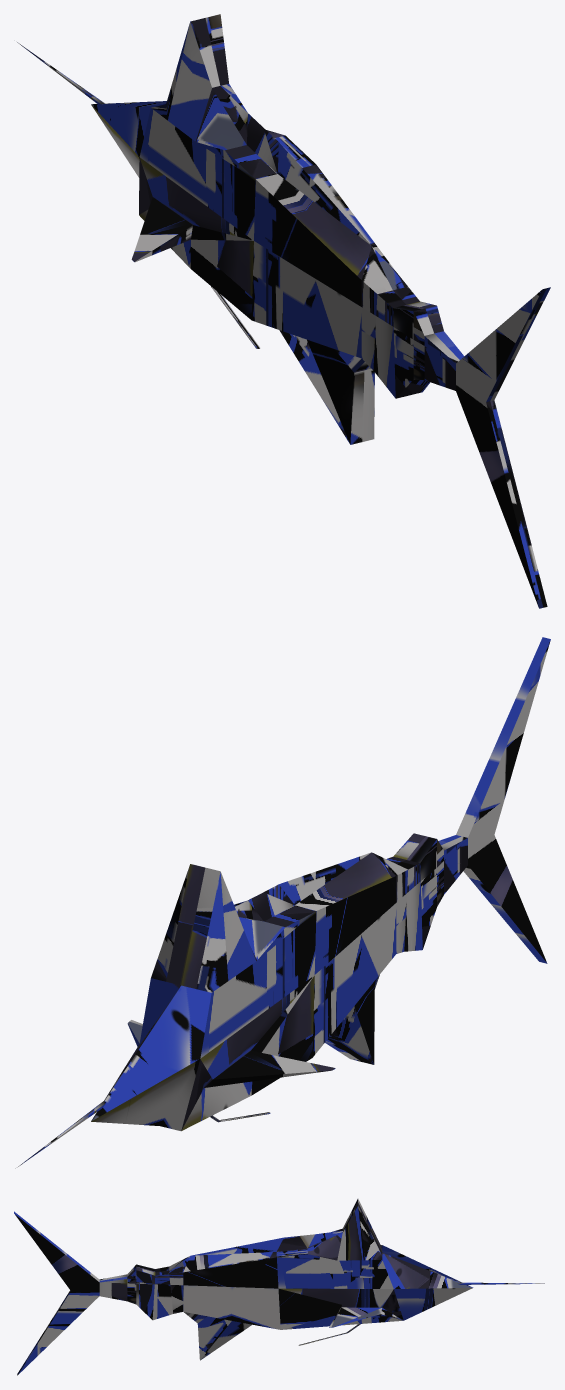
Rendered from fish_marlin.obj.
3 views of the same model, one above another, from view 1: azimuth 30°, elevation 25°; view 2: azimuth 150°, elevation 25°; view 3: azimuth 270°, elevation 25° (orthographic). The views are drawn at different scales.
Visible parts, largest first — view 1: Cube; view 2: Cube; view 3: Cube.
Part boxes in pixels (x1=…): Cube: x1=17, y1=14, x2=550, y2=608; Cube: x1=15, y1=637, x2=550, y2=1168; Cube: x1=14, y1=1198, x2=544, y2=1375.
Bounding box in the file's own units: 1.04 × 1.68 × 4.75.
1 material, 1 textured.
